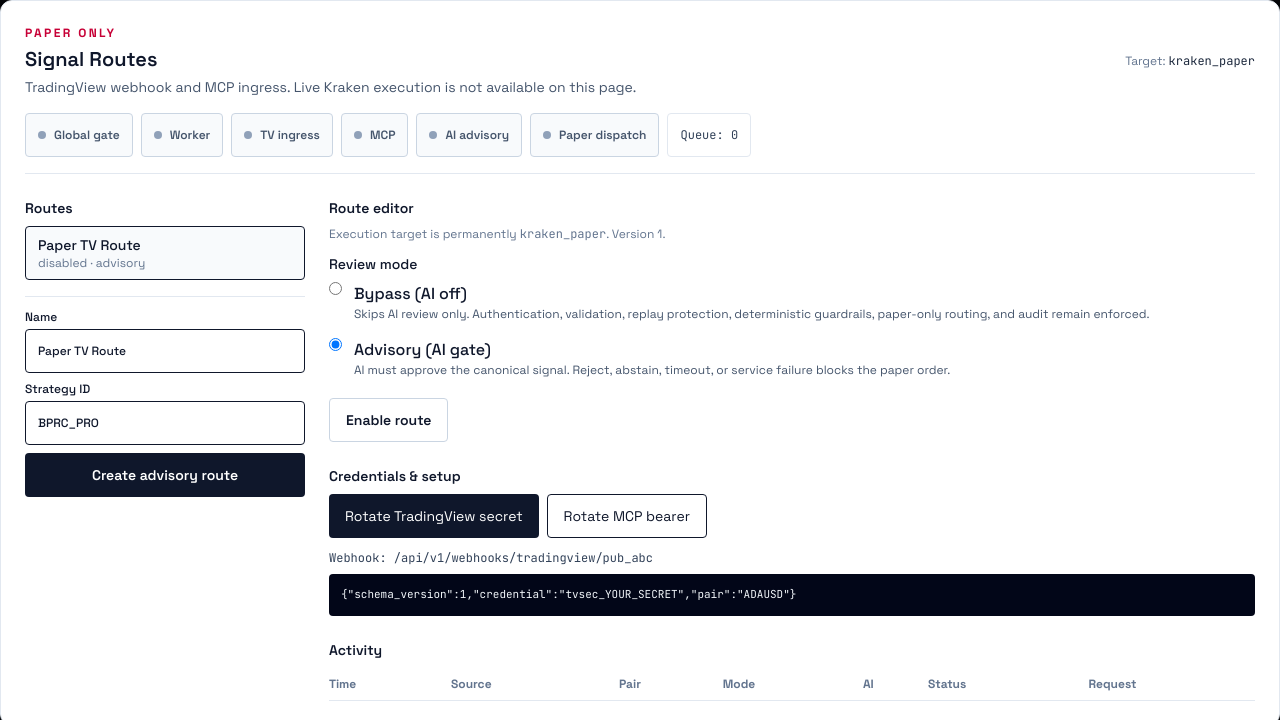
Test: SignalRoutesPage › requires confirmation before switching to Bypass and cancels without patching
Click the radio button labelled "Bypass (AI off)" at (336, 288), box [329,282,342,295]
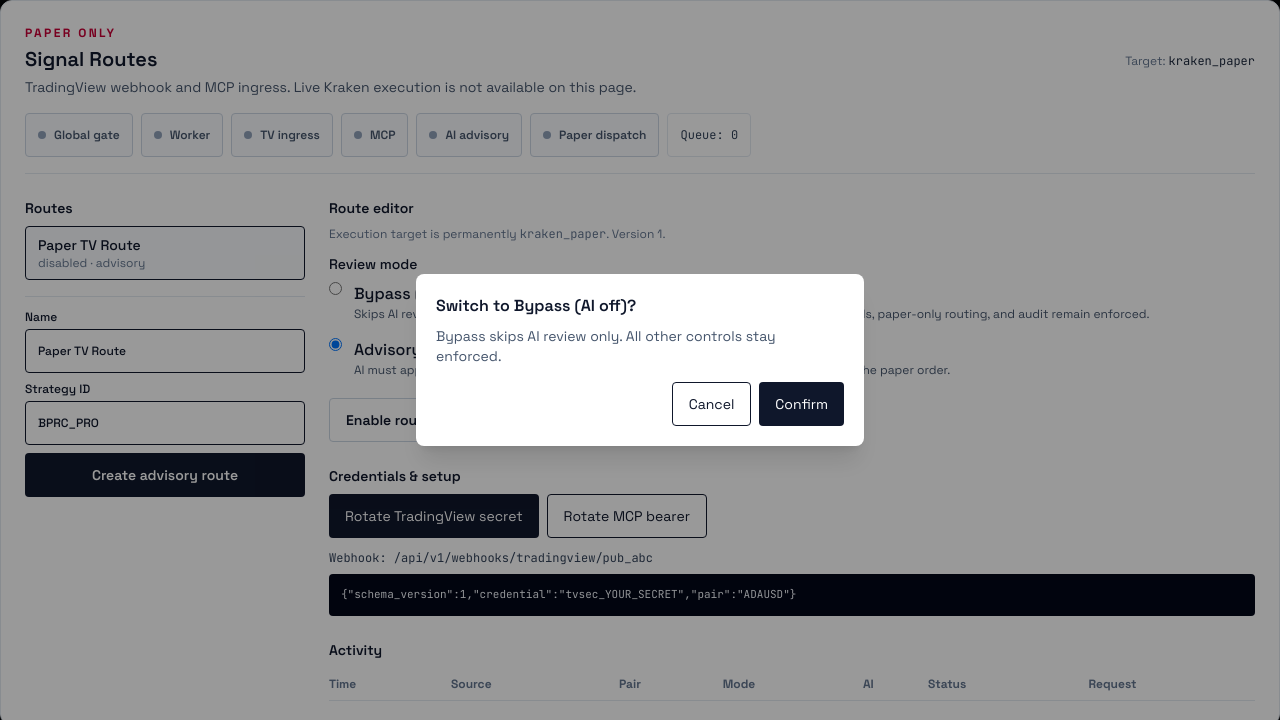
Expected: the heading "Switch to Bypass (AI off)?" is shown, [436,295,636,316]
Expected: the text "Bypass skips AI review only" is shown, [436,327,776,365]
Click the button "Cancel" at (711, 404), box [672,382,751,426]
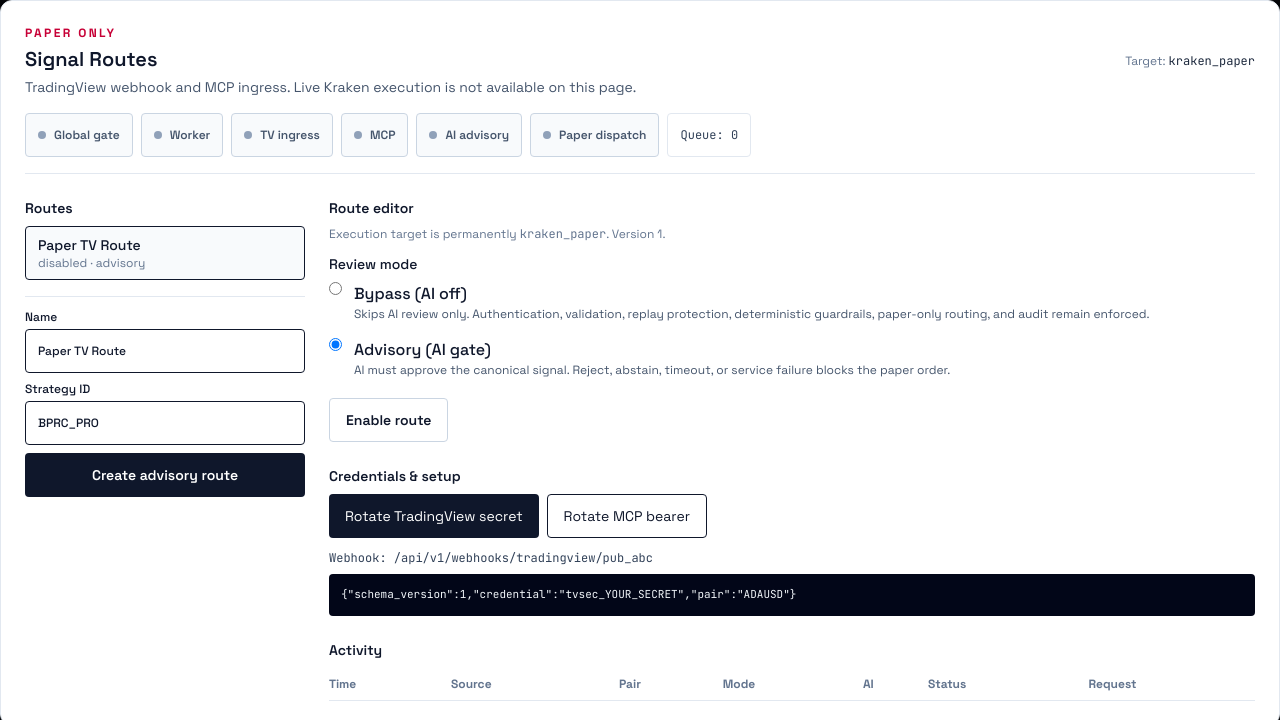
Expected: the dialog is gone
